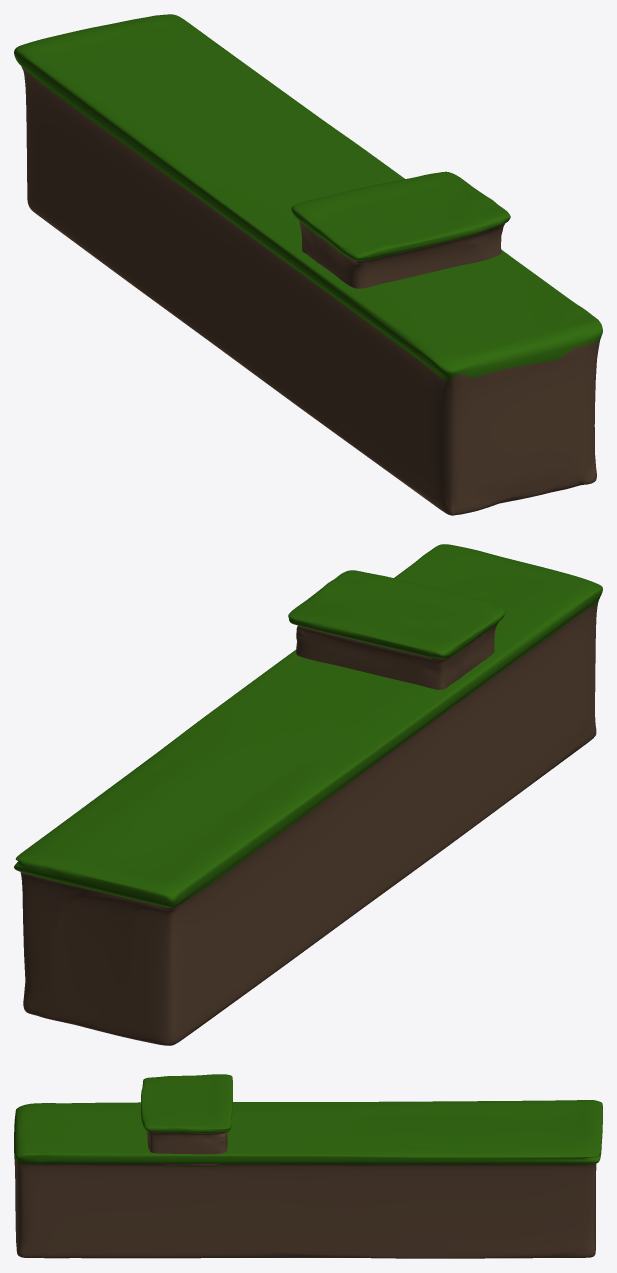
3 renders of one model, top to bottom at view 1: azimuth 30°, elevation 25°; view 2: azimuth 150°, elevation 25°; view 3: azimuth 270°, elevation 25°, orthographic. The views are drawn at different scales.
Parts seen in each view (by area): view 1: Cube.051; view 2: Cube.051; view 3: Cube.051.
Part boxes in pixels (<box>): Cube.051: <box>14,14,602,515</box>; Cube.051: <box>14,544,602,1045</box>; Cube.051: <box>14,1074,602,1258</box>.
Bounding box in the file's own units: 326 × 377 × 1484.
